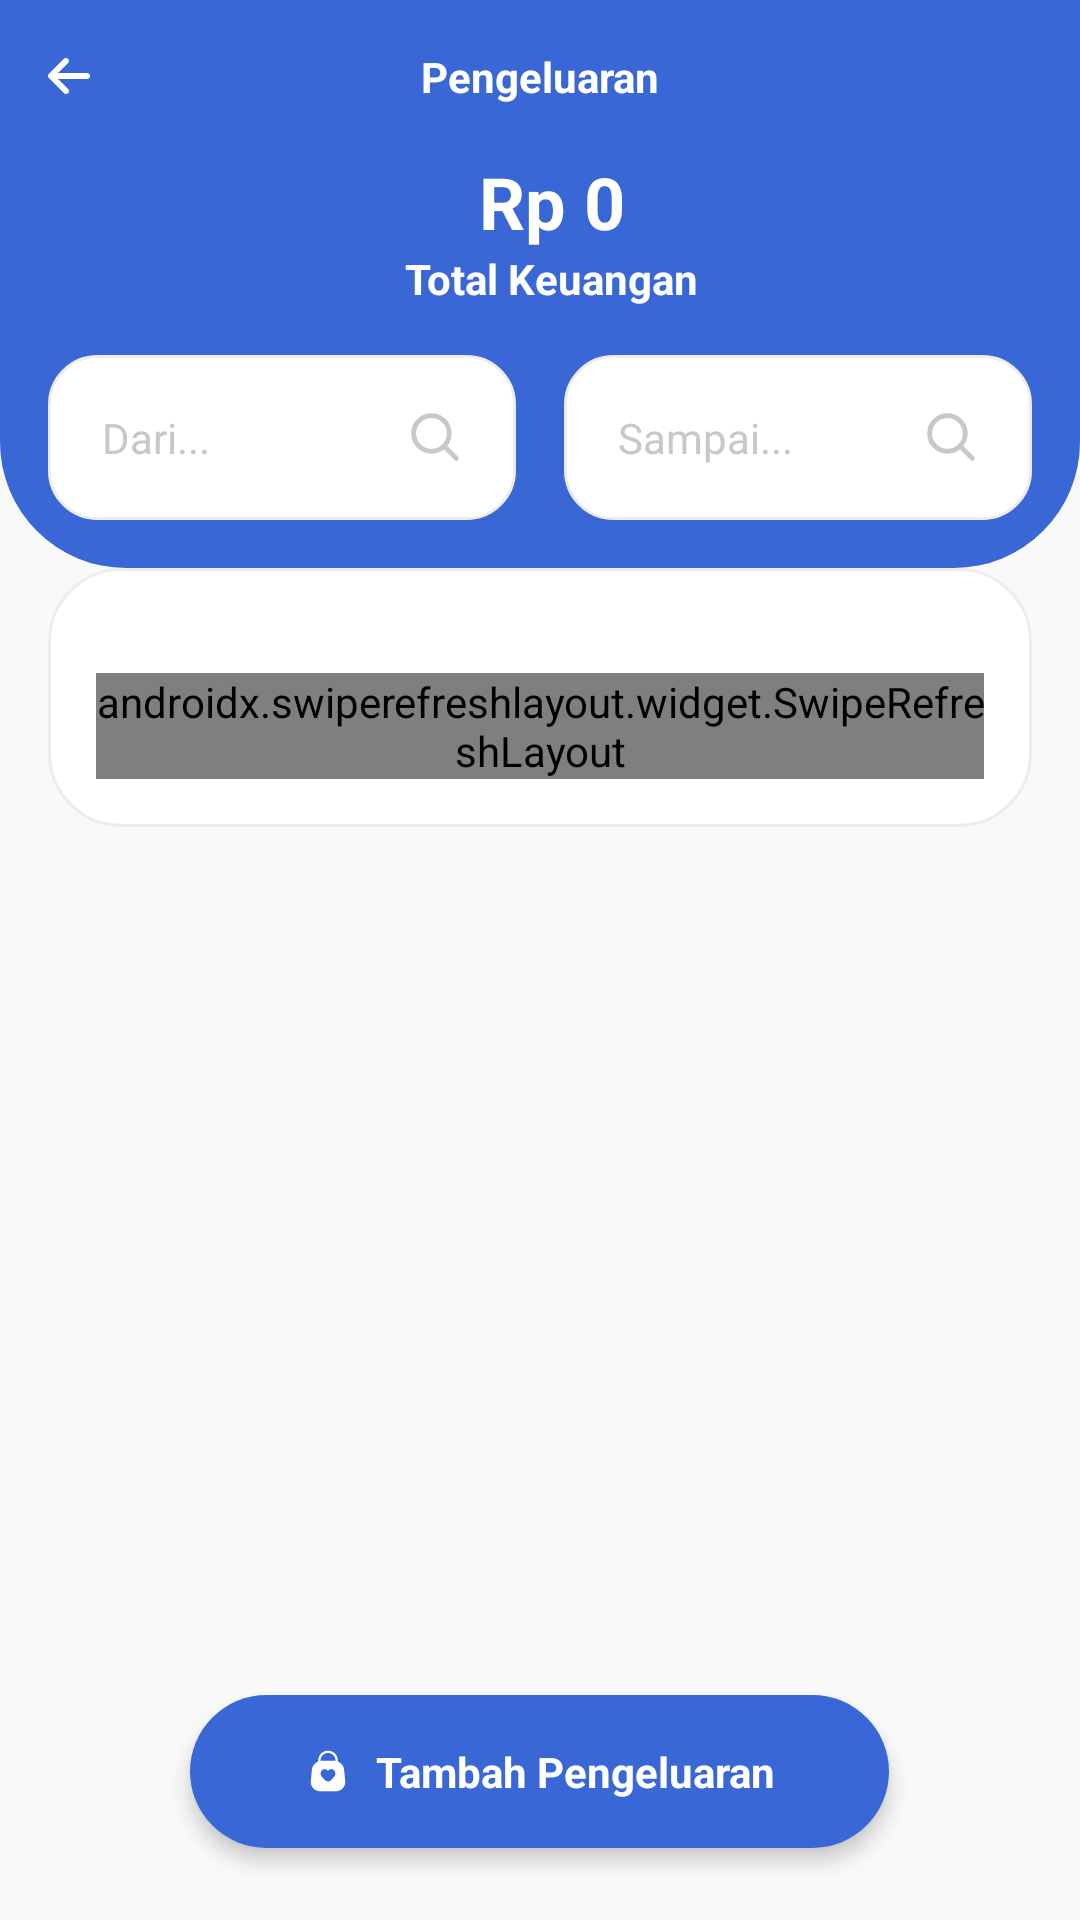

Icons on this 1080 × 1920 Android screen, each with the point to tap as (x,y):
arrow: (69,76)
